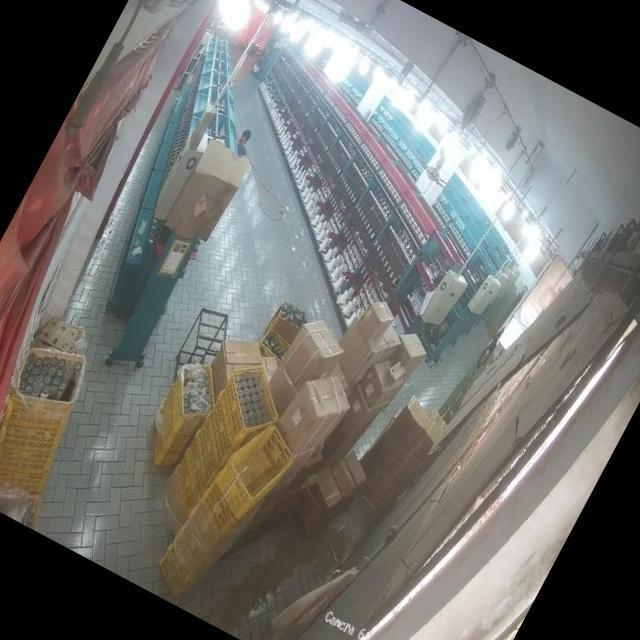person: (232, 126, 258, 157)
